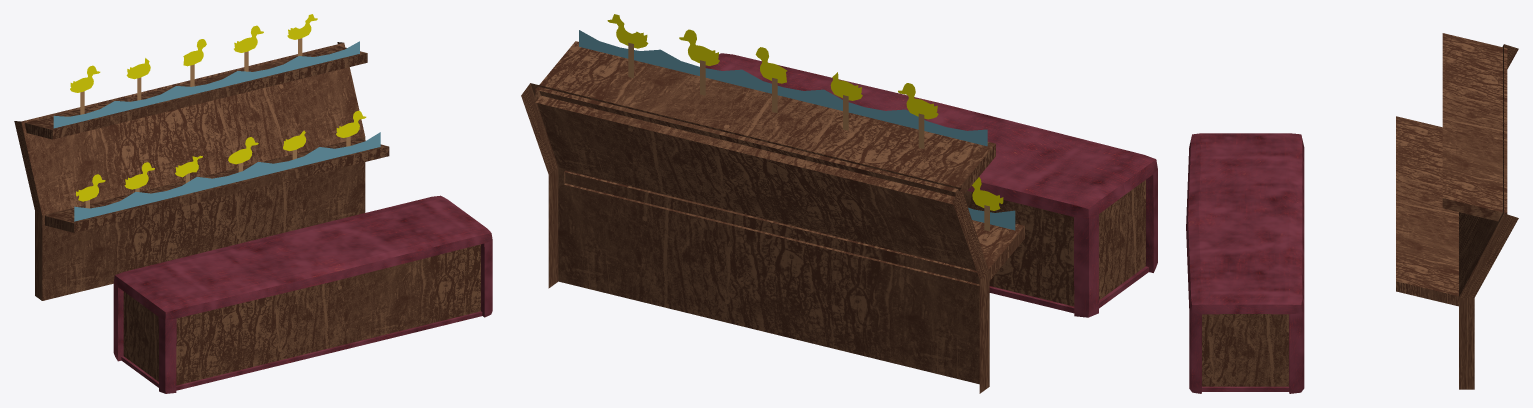
File: duck hunt.fbx
The picture shows the model from 3 angles, left to right: view 1: azimuth 30°, elevation 25°; view 2: azimuth 150°, elevation 25°; view 3: azimuth 270°, elevation 25°; orthographic projection. The views are drawn at different scales.
Visible parts, largest first — view 1: duckhunt; view 2: duckhunt; view 3: duckhunt.
Boxes of the visible parts, x1=… form: duckhunt: x1=14, y1=14, x2=492, y2=393; duckhunt: x1=521, y1=14, x2=1157, y2=393; duckhunt: x1=1186, y1=33, x2=1518, y2=393.
Bounding box in the file's own units: 12.79 × 8.13 × 10.39.
